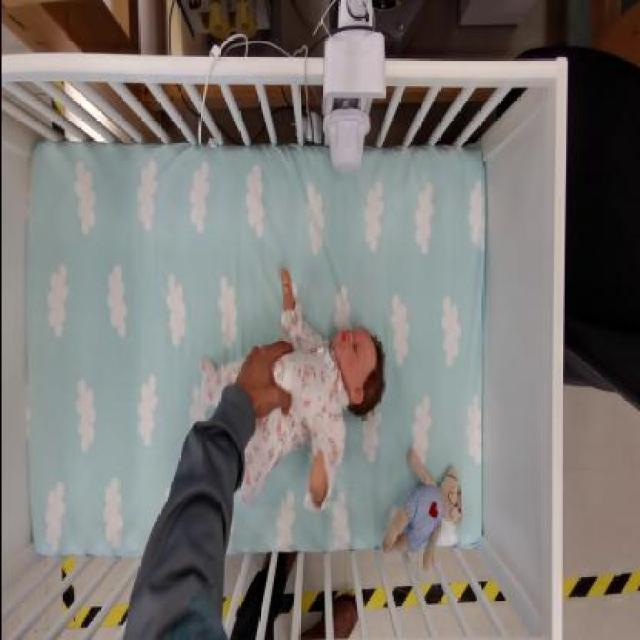baby: (196, 267, 386, 514)
